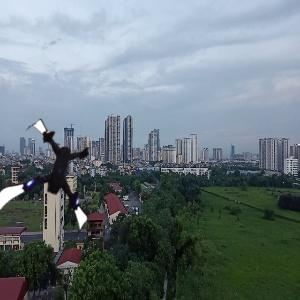drone: (4, 131, 110, 237)
